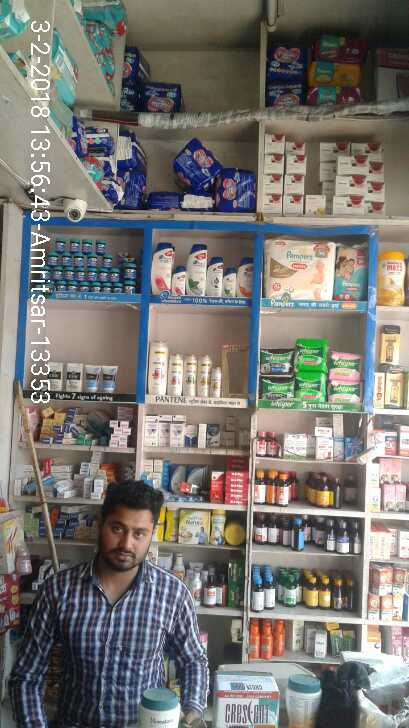vicks: (36, 234, 143, 297)
